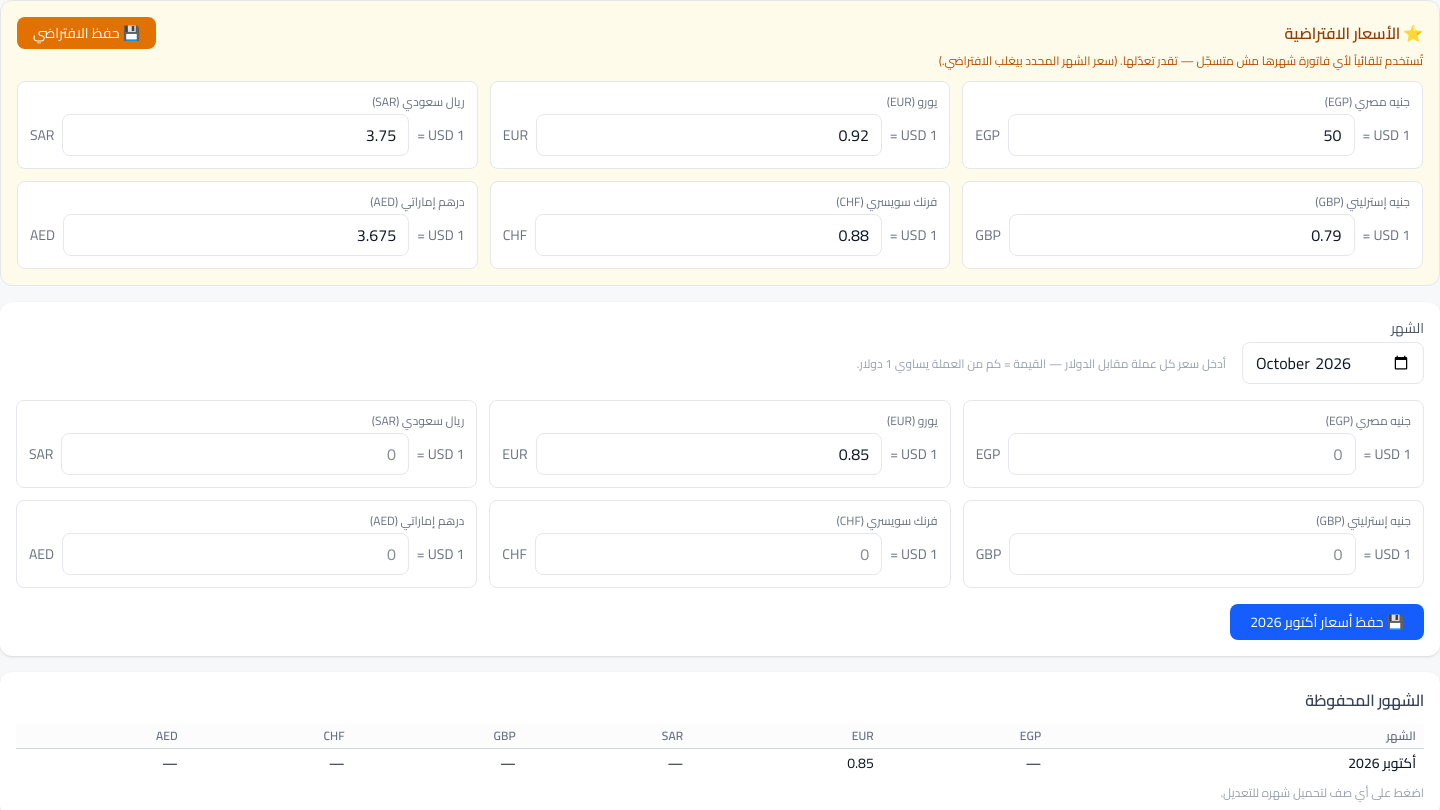
Test: بطاقة الأسعار › الحفظ يرسل base كما قُرئت ويُبقي العملة الخارجيّة
Replace the text in the 8th field showing "0.85" with "0.86": (709, 454) left=536, top=433, right=882, bottom=475
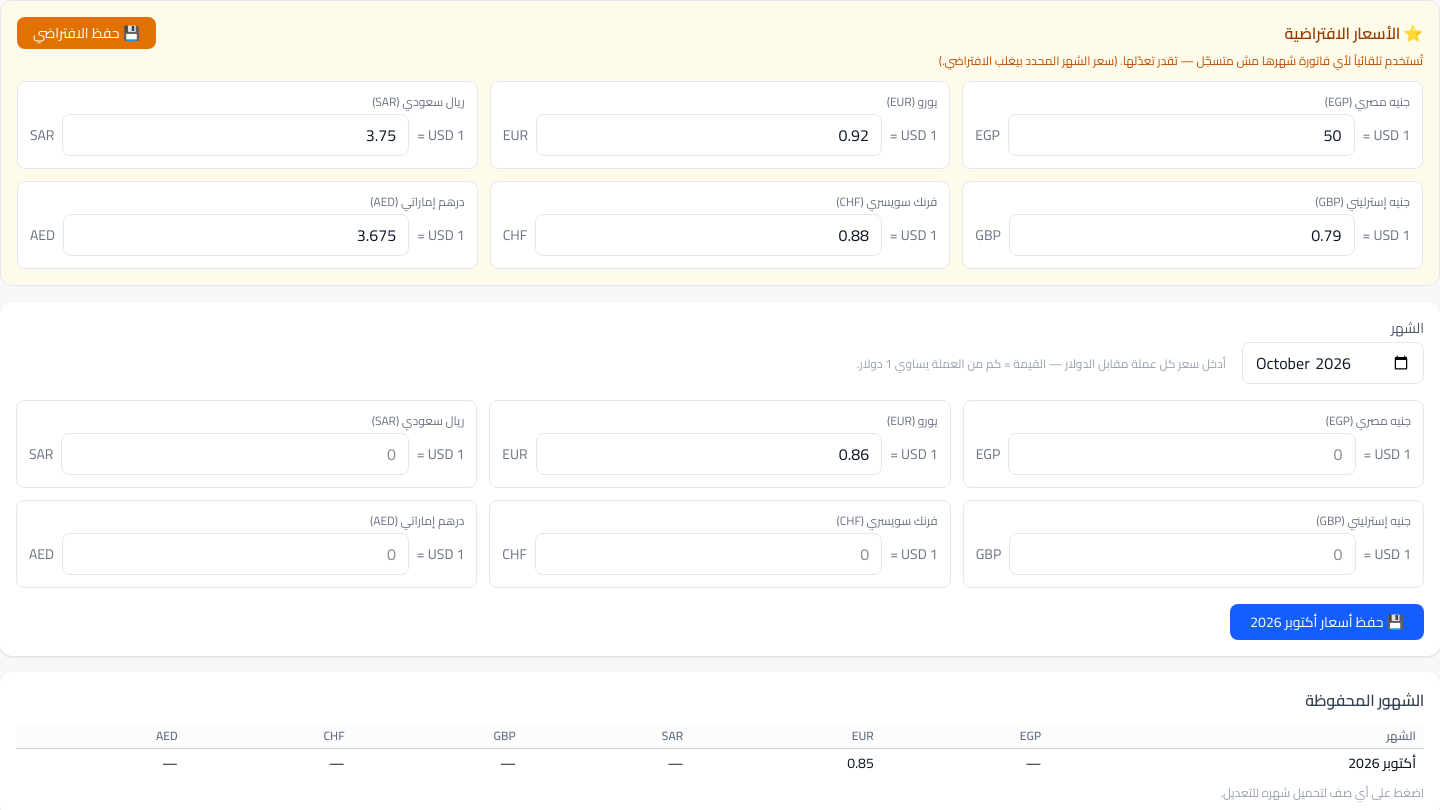
Click the button "💾 حفظ أسعار أكتوبر 2026": (1327, 622) left=1230, top=604, right=1424, bottom=640
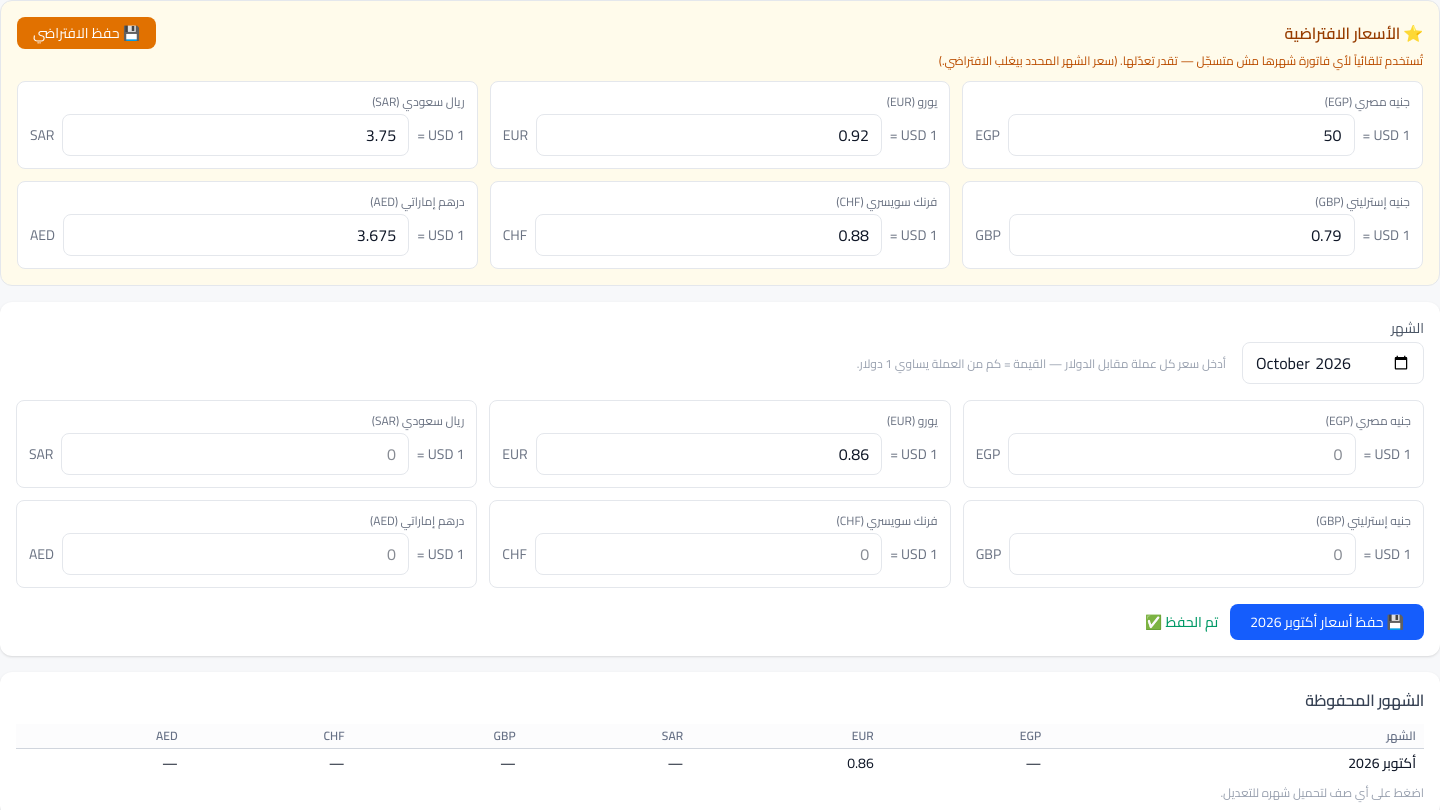
Expected: the text "تم الحفظ ✅" is shown, left=1145, top=612, right=1218, bottom=632
